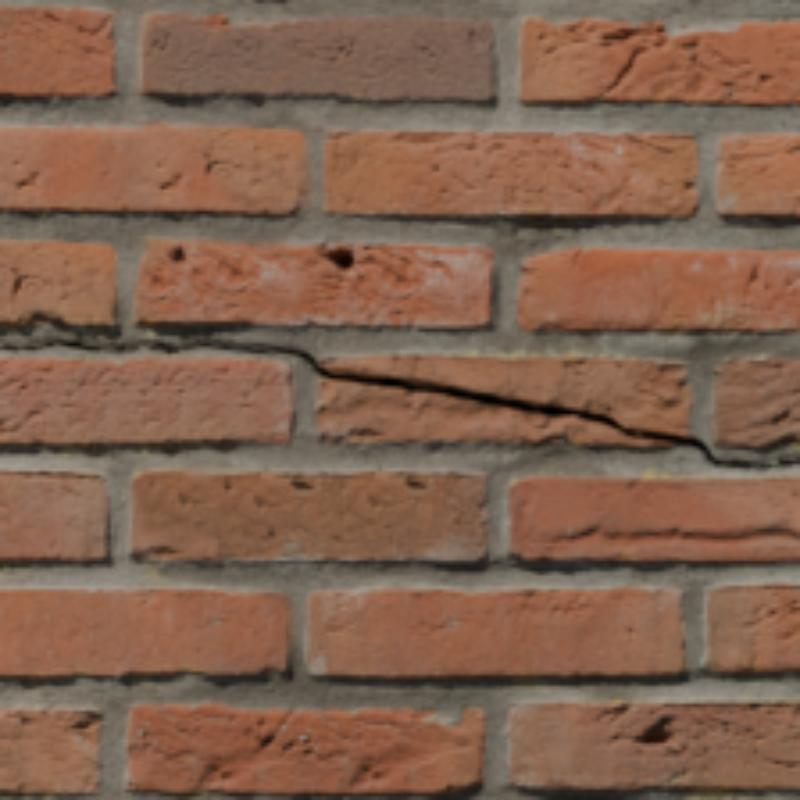pothole: (0, 339, 796, 471), (596, 36, 671, 100)
